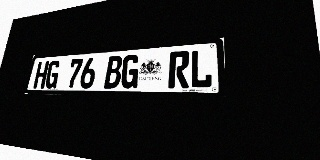6: (79, 57, 97, 88)
7: (66, 58, 83, 88)
B: (104, 55, 123, 88)
G: (120, 54, 140, 88), (44, 60, 61, 88)
H: (33, 61, 49, 88)
L: (190, 49, 212, 88)
R: (168, 50, 190, 88)
